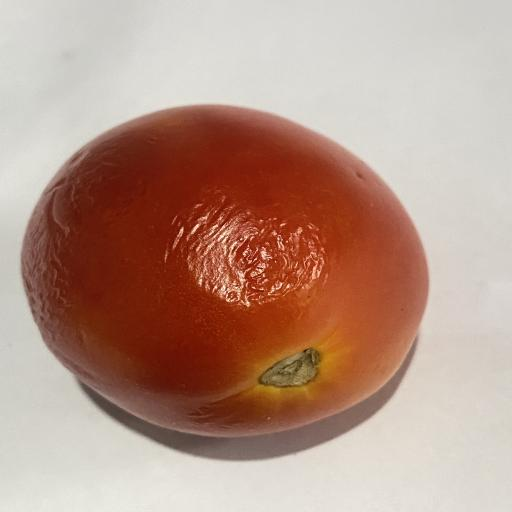spoiled: (22, 105, 428, 437)
